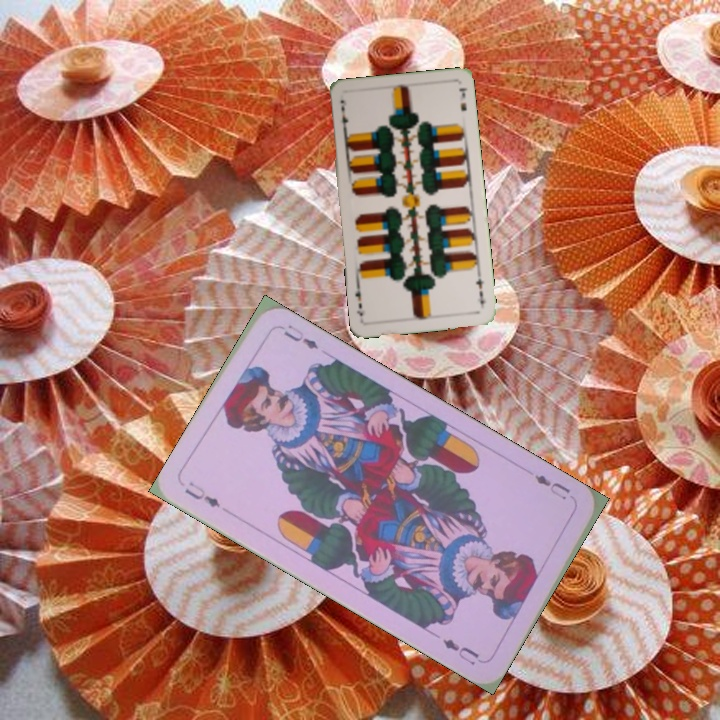E7: (472, 275, 489, 307), (337, 102, 351, 135)
EU: (530, 470, 573, 503), (180, 477, 223, 510)
